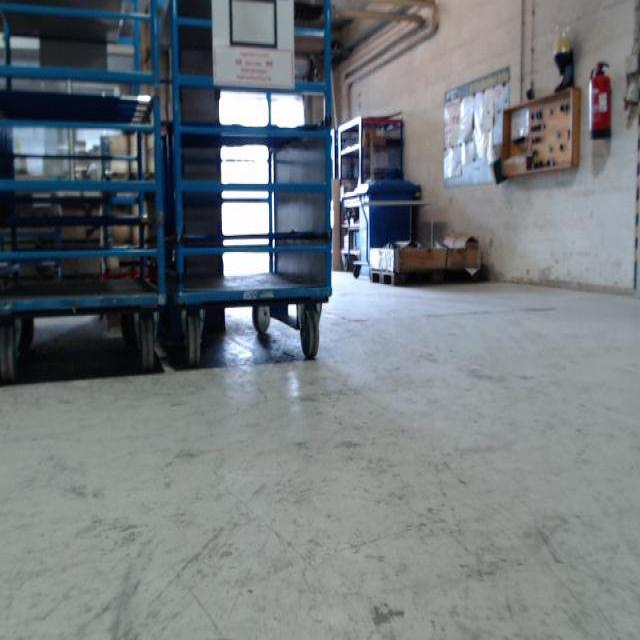pallet: (368, 269, 484, 290)
